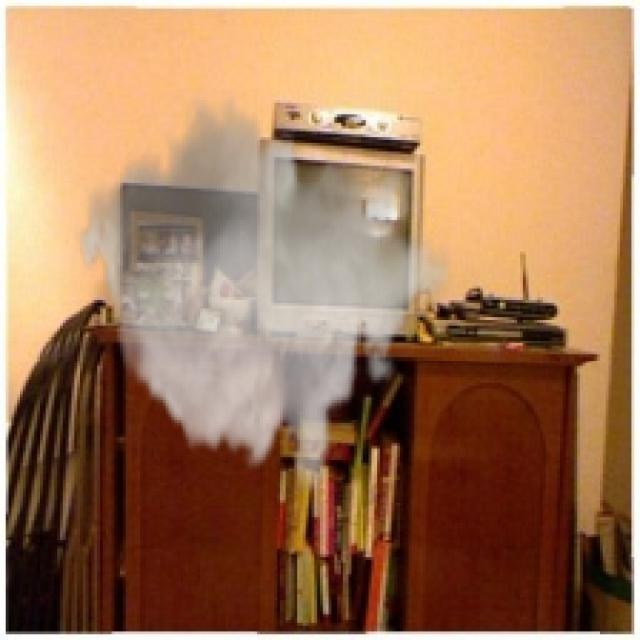smoke: (74, 89, 452, 494)
